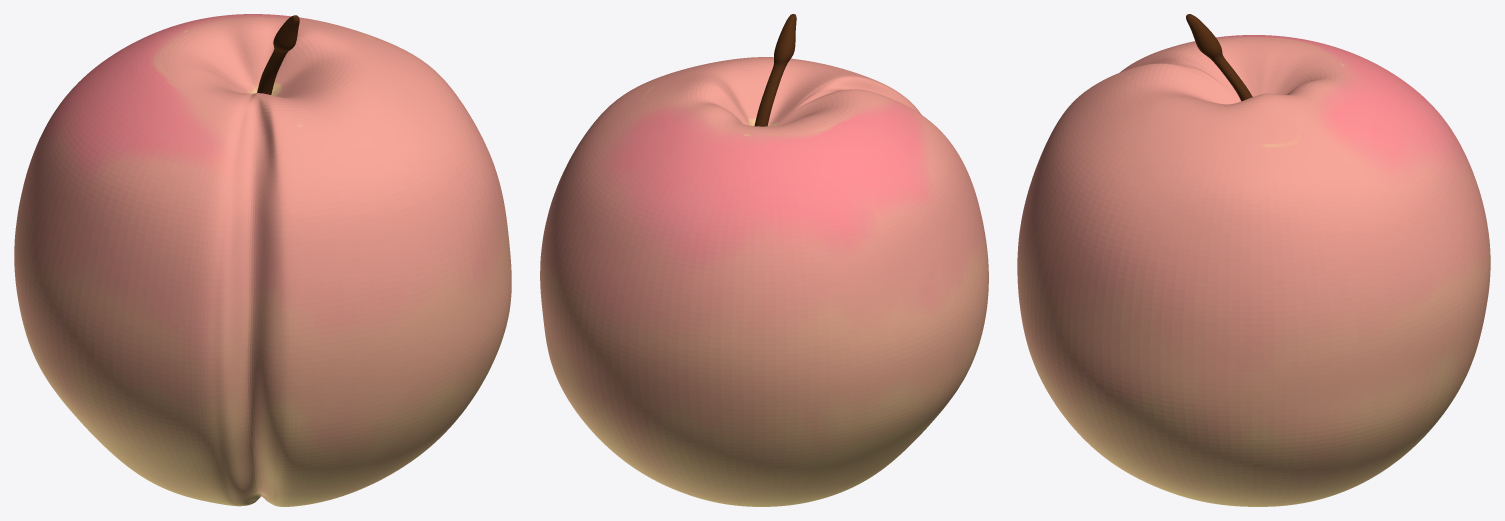
Rendered from Peach.fbx.
The picture shows the model from 3 angles, left to right: view 1: azimuth 30°, elevation 25°; view 2: azimuth 150°, elevation 25°; view 3: azimuth 270°, elevation 25°; orthographic projection. The views are drawn at different scales.
Parts seen in each view (by area): view 1: Peach; view 2: Peach; view 3: Peach.
Boxes of the visible parts, x1,y1,x2,y2 form: Peach: [14, 14, 511, 506]; Peach: [540, 14, 988, 506]; Peach: [1017, 14, 1490, 506].
Size of the model in its own units: 353 by 383 by 355.
